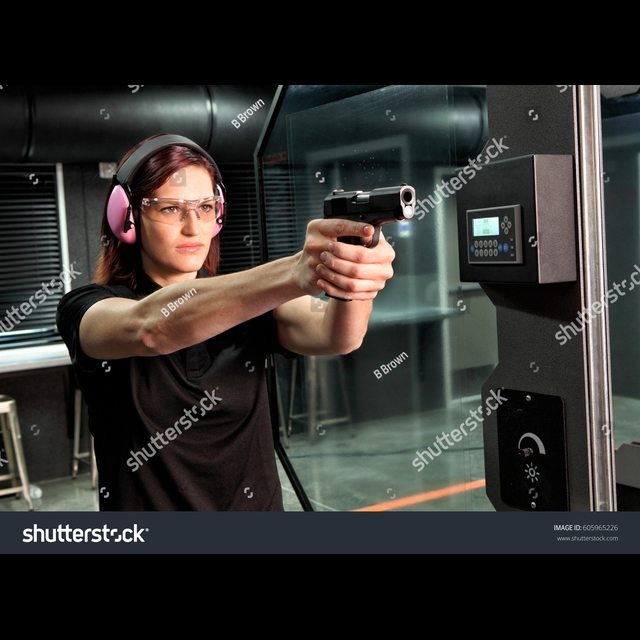SILAH: (312, 180, 421, 305)
